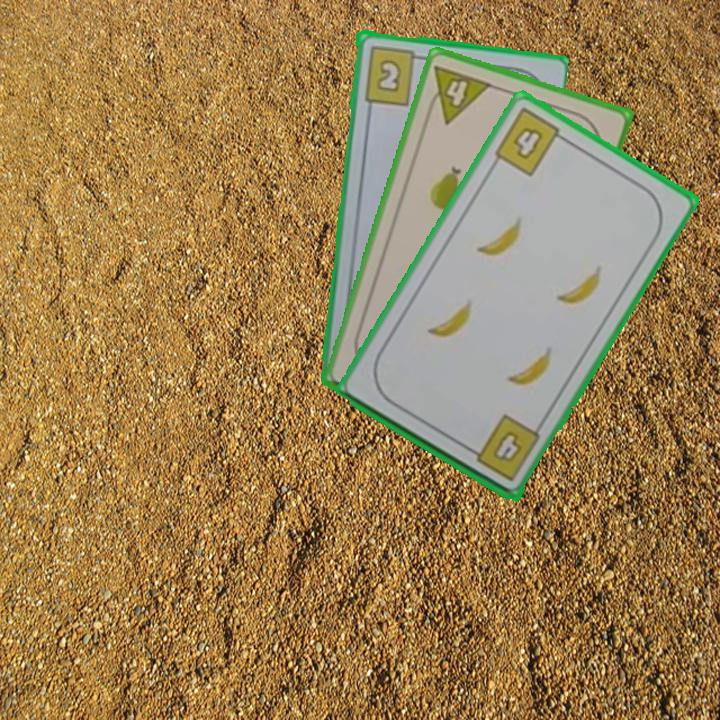2b: (360, 42, 427, 107)
4b: (490, 104, 571, 179), (463, 410, 543, 484)
4p: (421, 61, 495, 127)
